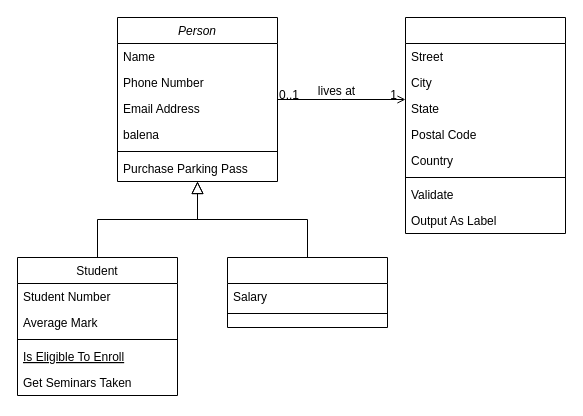
This 583x416 diagram has some shape labels left out. Each missing label, with the box of its shape:
Address: (404, 16, 566, 234)
Professor: (226, 256, 388, 328)
